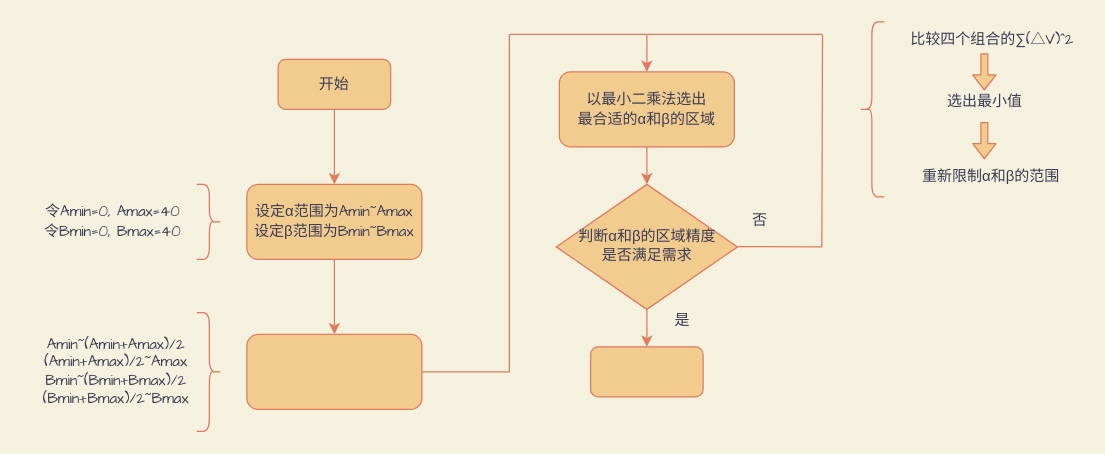
This 1105x454 diagram has some shape labels left out. The centre of each missing label's shape, as x and y in pixels:
"以二分法对 α 和 β 的范围 分出四块区域" belongs at [334,371].
"结束" belongs at [646,371].
